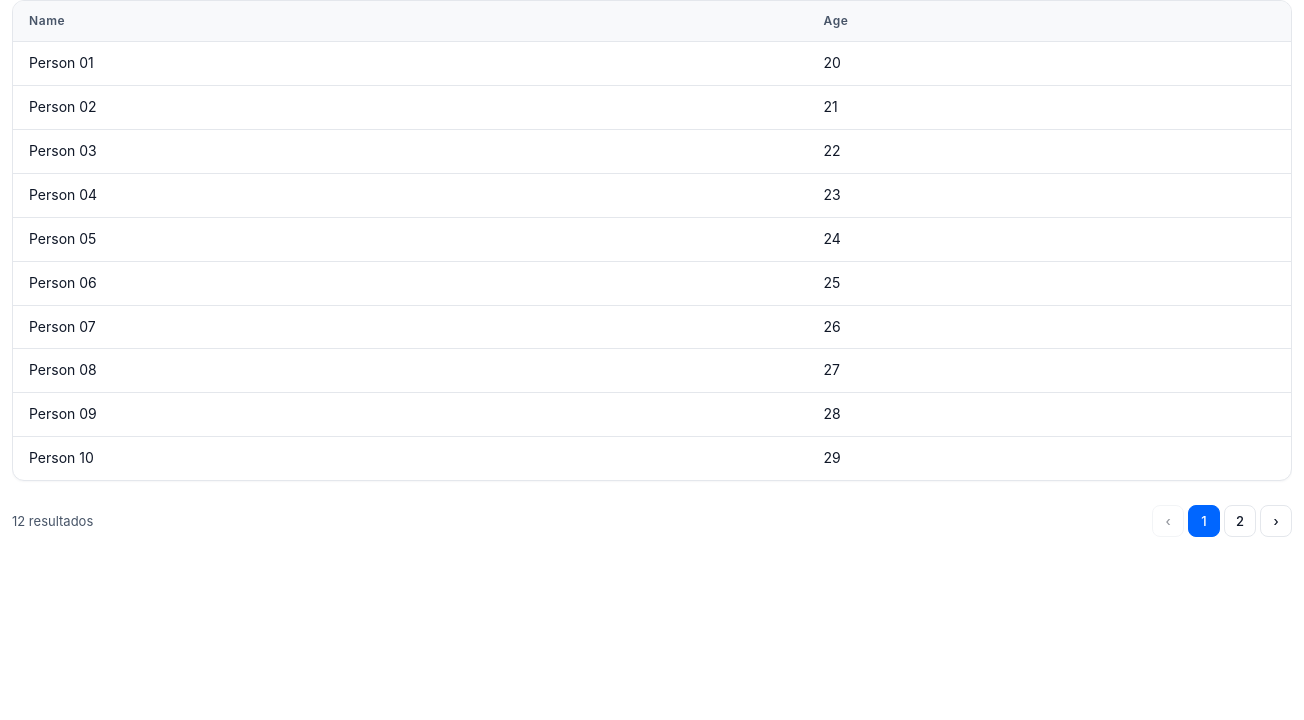
Scenario: DataTable › paginates and shows different rows on page 2
The image size is (1304, 720).
expect the text "Person 01" is shown: met, box x1=13 y1=42 x2=808 y2=86
expect the text "Person 11" is not shown: met
Click the button named "próxima página" at (1276, 521), box x1=1260 y1=505 x2=1292 y2=537
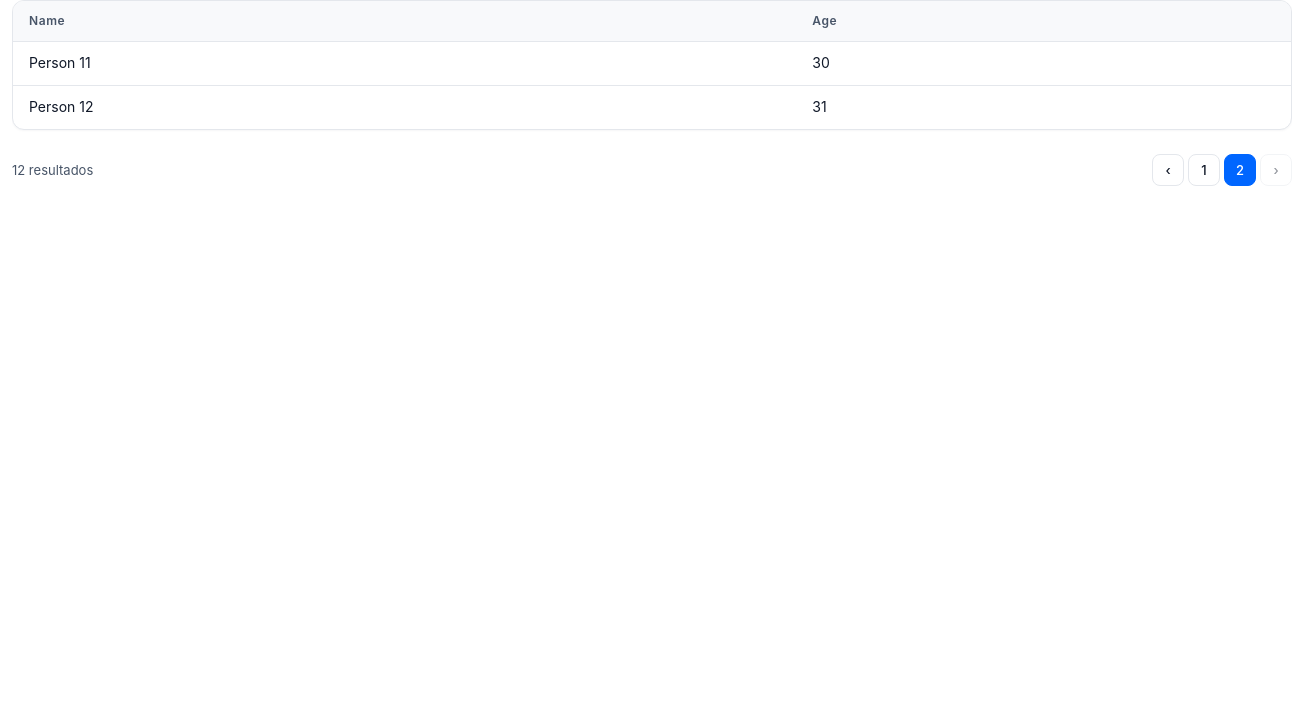
expect the text "Person 11" is shown: met, box x1=13 y1=42 x2=796 y2=86
expect the text "Person 01" is gone: met
